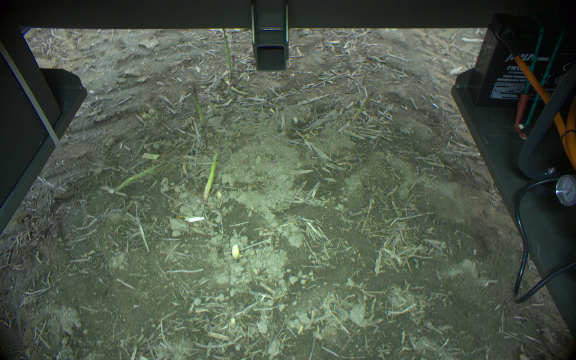aspa: (109, 161, 165, 192), (201, 150, 219, 200), (351, 89, 374, 124), (221, 30, 235, 84), (190, 86, 205, 123), (202, 98, 220, 117)
